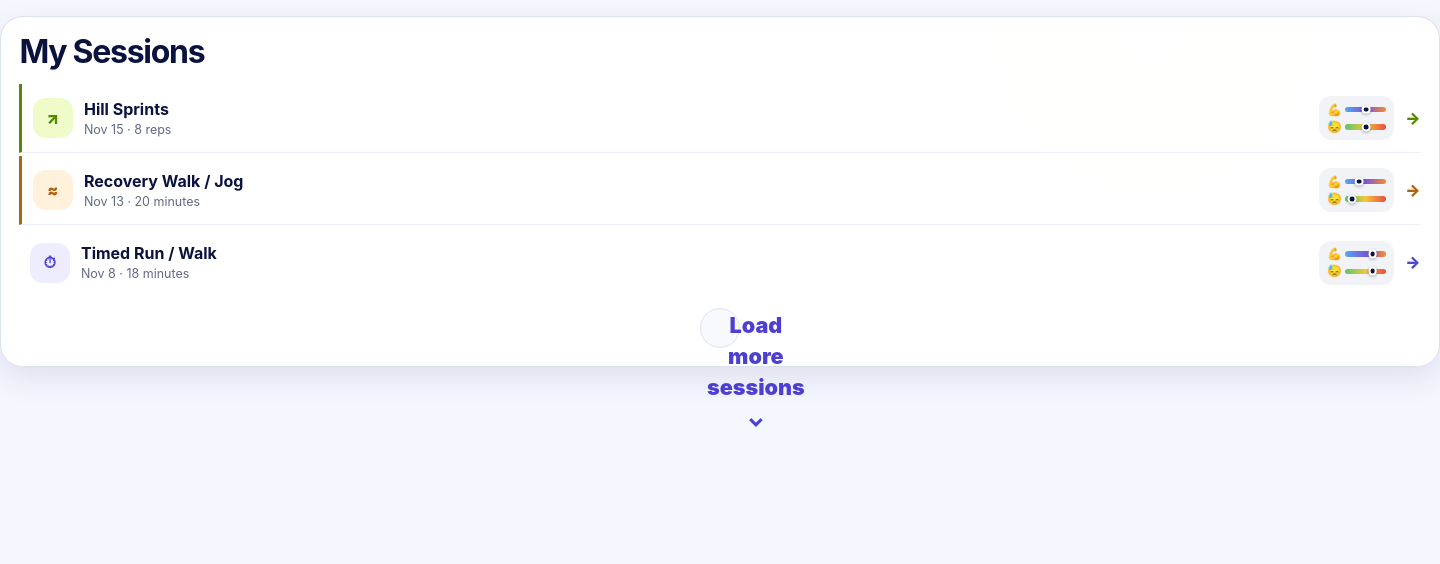
shared session list › uses the same three-row summary and load-more behavior on every surface
Expected: the heading "My Sessions" is shown, [19,35,204,70]
Expected: the number of links is 3, [19,84,1421,153]; [19,156,1421,226]; [19,229,1421,297]
Click the button "Load more sessions ⌄" at (720, 328), box [700,308,740,348]
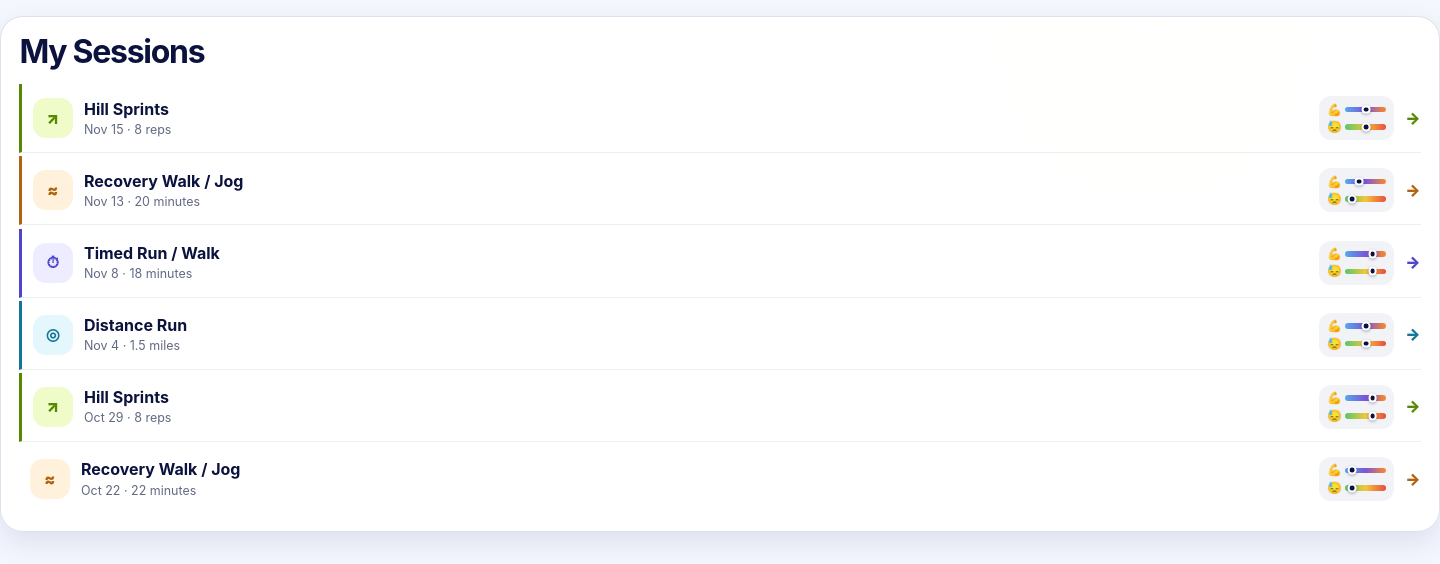
Expected: the number of links is 6, [19,84,1421,153]; [19,156,1421,226]; [19,229,1421,298]; [19,301,1421,370]; [19,373,1421,442]; [19,445,1421,513]
